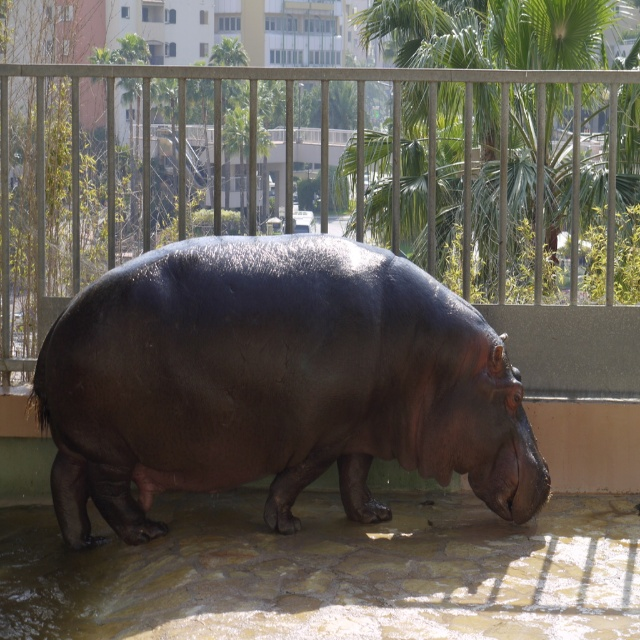Hippopotamus: (30, 232, 550, 550)
